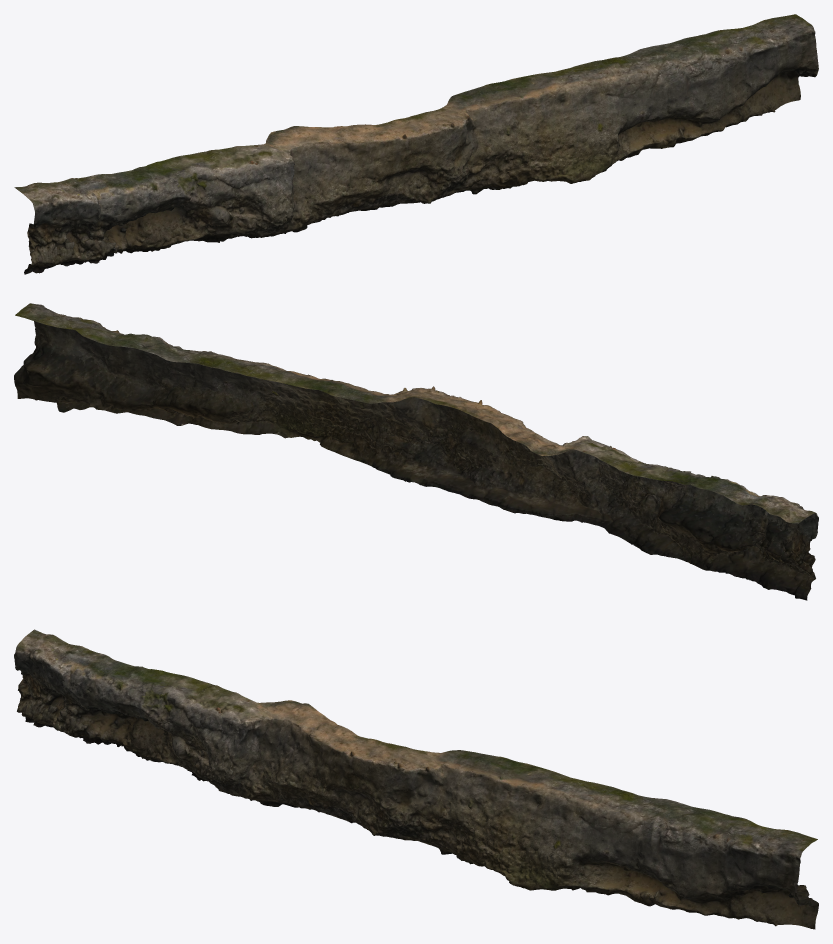
File: coastal-cliff-lod0.glb
The picture shows the model from 3 angles, top to bottom: view 1: azimuth 30°, elevation 25°; view 2: azimuth 150°, elevation 25°; view 3: azimuth 330°, elevation 25°; orthographic projection. The views are drawn at different scales.
Parts seen in each view (by area): view 1: coastal_cliff_01; view 2: coastal_cliff_01; view 3: coastal_cliff_01.
Boxes of the visible parts, box(x1,y1,x2,y2) form: coastal_cliff_01: box(14, 14, 818, 274); coastal_cliff_01: box(14, 303, 818, 600); coastal_cliff_01: box(14, 629, 818, 929).
Bounding box in the file's own units: 91.98 × 10.32 × 10.96.
Materials: 1 (1 with a texture image).
